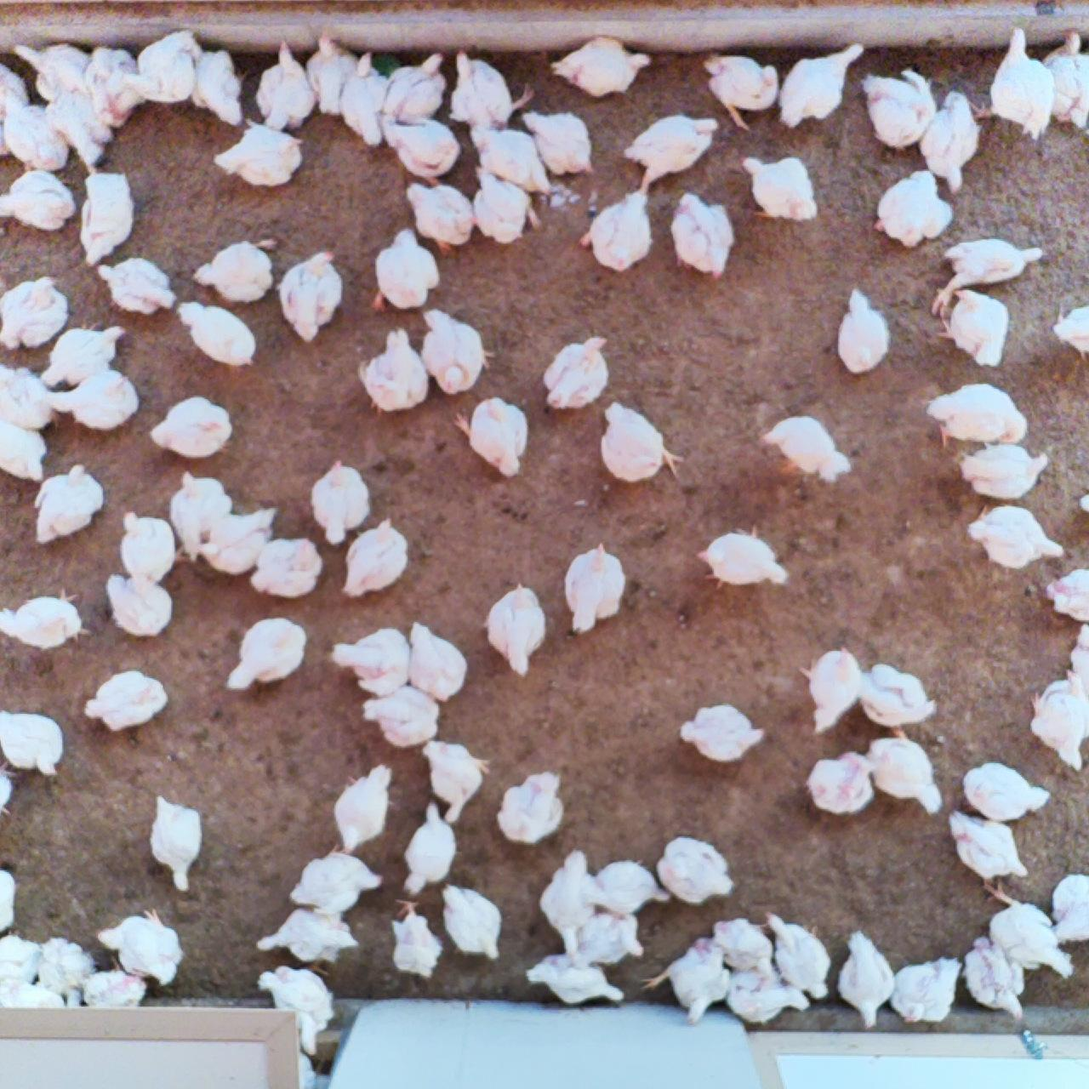chicken: (932, 242, 1051, 315), (971, 30, 1052, 136), (623, 115, 719, 197), (641, 939, 733, 1023), (987, 887, 1070, 979), (257, 960, 336, 1054), (778, 43, 862, 126), (927, 386, 1027, 453), (450, 53, 533, 133), (597, 398, 679, 478), (419, 306, 487, 400), (759, 417, 849, 487), (702, 46, 776, 131), (965, 504, 1064, 567), (466, 122, 555, 192), (853, 665, 939, 737), (225, 620, 304, 698), (868, 740, 944, 821), (918, 90, 978, 191), (277, 249, 339, 345), (371, 228, 441, 313), (938, 288, 1012, 368), (962, 935, 1028, 1024), (764, 913, 830, 1002), (291, 851, 385, 913), (551, 37, 653, 94), (100, 912, 180, 984), (358, 331, 426, 415), (483, 582, 544, 675), (540, 851, 594, 956), (455, 396, 528, 473), (258, 908, 362, 962), (43, 322, 128, 388), (738, 157, 820, 225), (169, 474, 230, 565), (578, 193, 651, 269), (697, 531, 785, 594), (951, 812, 1029, 883), (862, 69, 932, 148), (381, 51, 447, 134), (1032, 676, 1089, 772), (0, 274, 71, 351), (145, 795, 201, 892), (471, 170, 544, 244), (659, 837, 735, 908), (961, 443, 1048, 505), (76, 173, 134, 265), (876, 173, 947, 248), (407, 624, 467, 712), (564, 546, 625, 632), (33, 466, 101, 543), (679, 701, 762, 764), (793, 647, 854, 732), (86, 670, 169, 732), (192, 240, 271, 305), (2, 595, 90, 653), (840, 935, 895, 1027), (527, 958, 630, 1007), (345, 519, 408, 599), (408, 180, 476, 254), (150, 397, 231, 459), (495, 771, 561, 847), (334, 631, 413, 694), (670, 195, 732, 275), (50, 373, 140, 428), (254, 39, 312, 124), (1042, 27, 1089, 131), (180, 302, 254, 368), (214, 126, 299, 183), (423, 741, 482, 823), (962, 761, 1047, 817), (308, 465, 369, 542), (438, 887, 502, 960), (1, 704, 64, 778), (541, 337, 607, 407), (334, 765, 389, 849), (139, 33, 203, 105), (528, 109, 594, 178), (381, 117, 453, 180), (584, 861, 668, 914), (181, 42, 240, 117), (728, 967, 807, 1023), (200, 510, 270, 573), (892, 960, 961, 1023), (73, 968, 144, 1029), (16, 43, 100, 94), (2, 166, 67, 231), (105, 568, 168, 634), (837, 294, 887, 376), (309, 32, 360, 112), (100, 254, 171, 311), (407, 803, 451, 894), (391, 898, 442, 975), (365, 691, 437, 745), (0, 369, 60, 433), (338, 58, 382, 145), (54, 88, 106, 161), (122, 510, 175, 581), (801, 759, 872, 811), (36, 934, 100, 989), (5, 100, 58, 166), (574, 911, 644, 960), (251, 543, 317, 592), (1040, 561, 1089, 625), (715, 920, 774, 972), (43, 941, 100, 994), (0, 422, 51, 481), (0, 976, 65, 1014), (1057, 875, 1089, 945), (2, 931, 35, 978), (0, 861, 21, 930), (1066, 623, 1089, 685)
